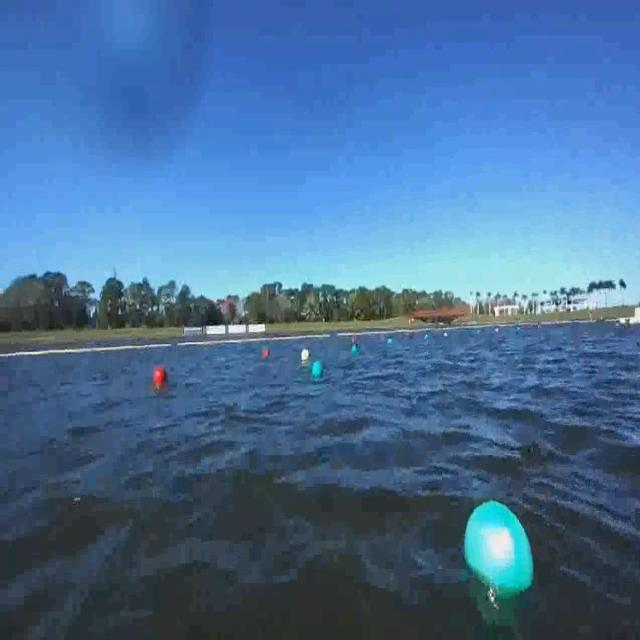green-buoy: (462, 494, 536, 612), (312, 358, 324, 378)
red-buoy: (155, 365, 170, 387)
yellow-buoy: (301, 348, 311, 362)
